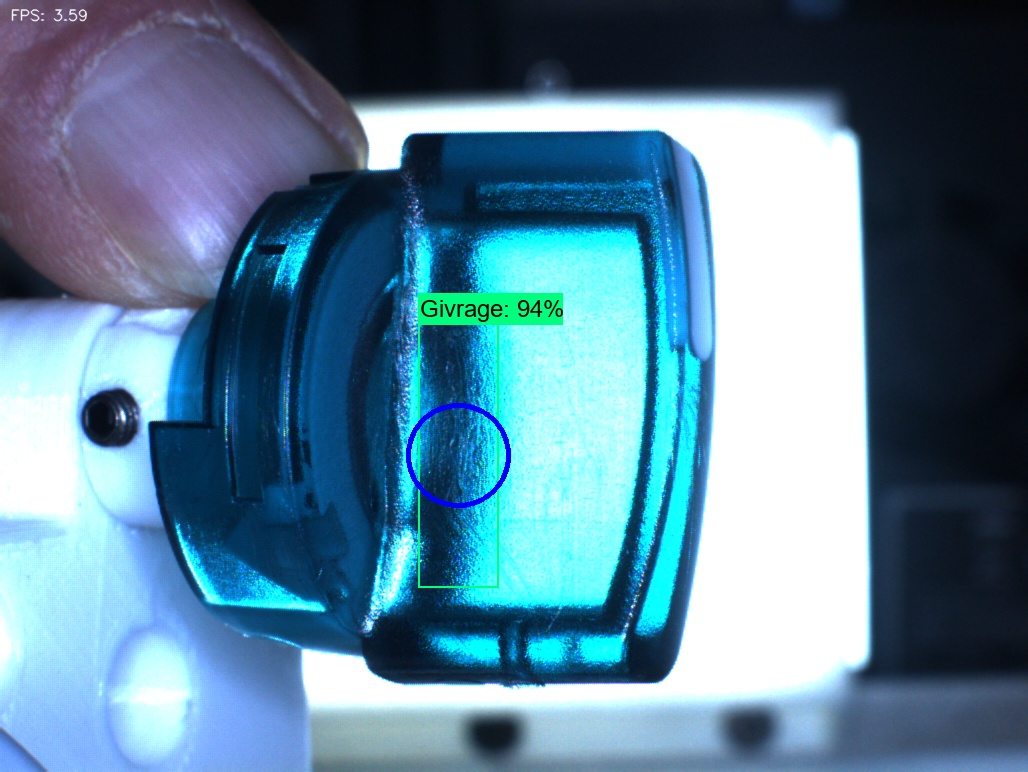Bulle: (465, 587, 569, 705)
